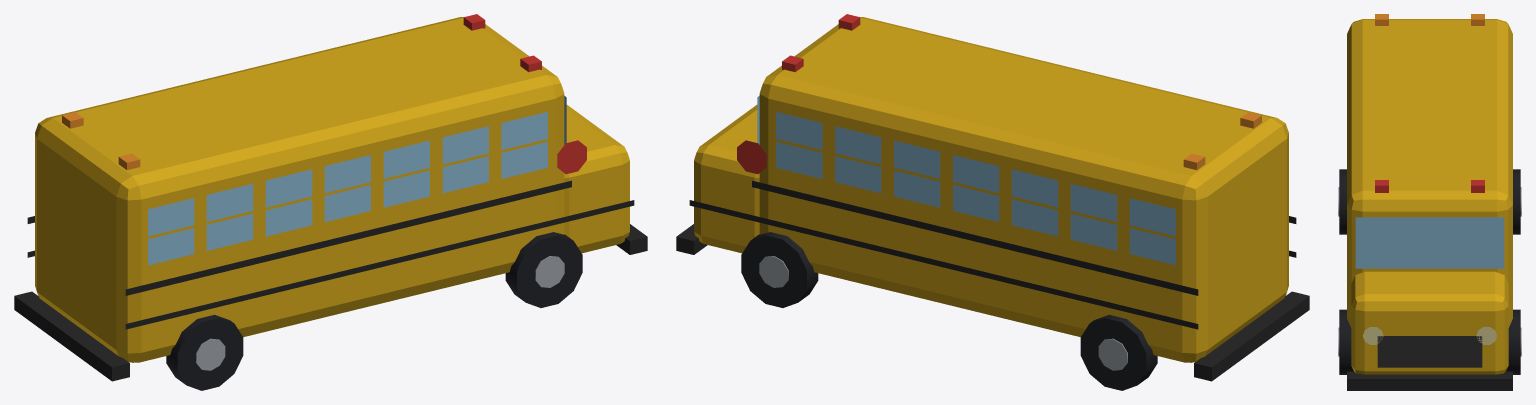
The model's file is school-deco1.glb.
3 views of the same model, side by side, from view 1: azimuth 30°, elevation 25°; view 2: azimuth 150°, elevation 25°; view 3: azimuth 270°, elevation 25° (orthographic). The views are drawn at different scales.
Visible parts, largest first — view 1: school-deco1; view 2: school-deco1; view 3: school-deco1.
Boxes of the visible parts, bbox=[...] form: school-deco1: bbox=[14, 14, 647, 390]; school-deco1: bbox=[676, 14, 1309, 390]; school-deco1: bbox=[1338, 14, 1521, 390].
Size of the model in its own units: 6 by 2.42 by 2.1.
